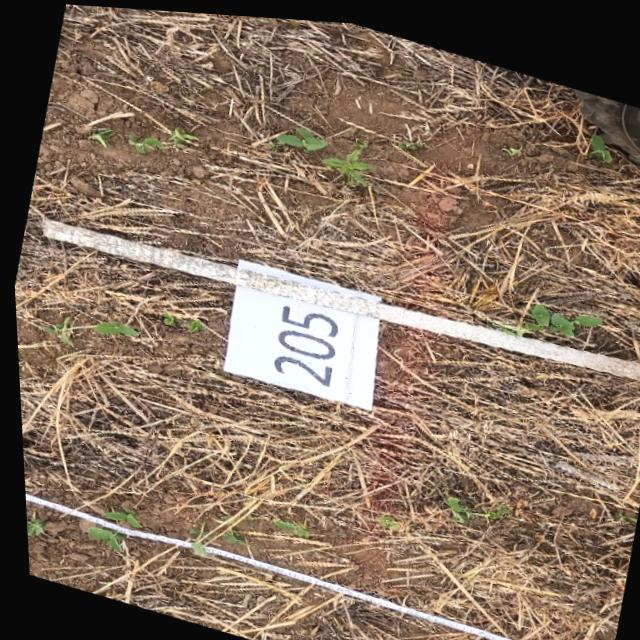soy_plant: (522, 296, 599, 328), (320, 137, 370, 179), (127, 124, 196, 151), (441, 489, 504, 517), (275, 121, 326, 146), (82, 524, 118, 550), (161, 308, 202, 328), (90, 318, 134, 334), (41, 315, 68, 341), (442, 491, 471, 515), (99, 508, 136, 526), (268, 516, 303, 533), (588, 126, 610, 153), (215, 527, 239, 542), (21, 516, 39, 535), (372, 510, 394, 524)
